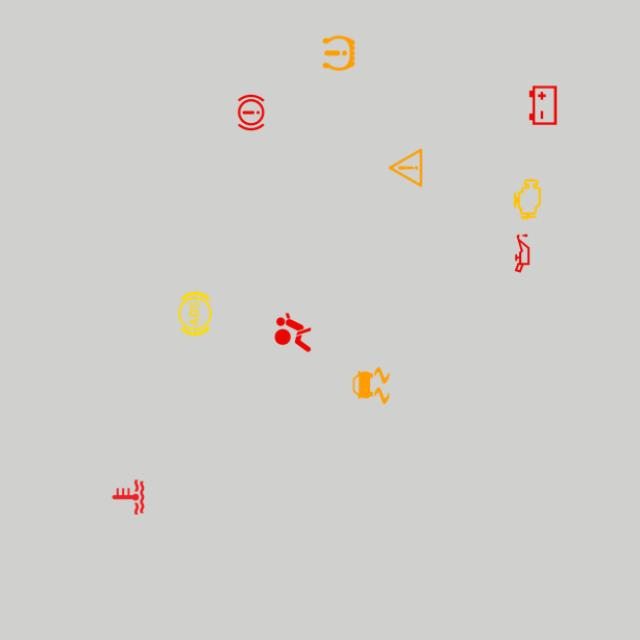Anti Lock Braking System: (171, 290, 219, 338)
Braking System Issue: (227, 88, 275, 136)
Charging System Issue: (519, 82, 567, 130)
Check Engine: (504, 175, 552, 223)
Electronic Stability Problem -ESP-: (347, 362, 395, 409)
Engine Overheating Warning Light: (104, 473, 152, 521)
Low Engine Oil Warning Light: (498, 230, 546, 278)
Low Tire Pressure Warning Light: (315, 29, 363, 77)
Master warning light: (382, 144, 429, 192)
SRS-Airbag: (269, 308, 317, 356)
